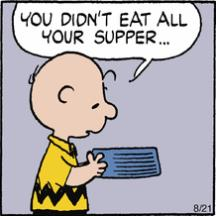charlie: (28, 50, 119, 216)
